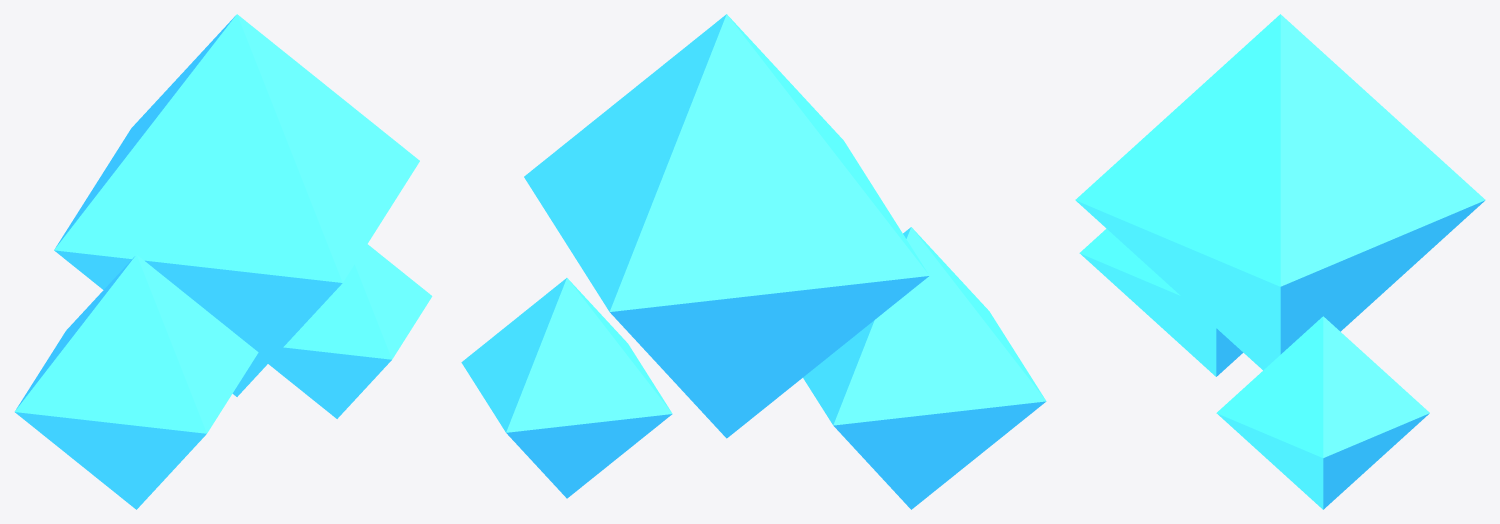
Rendered from ice_crystal_cluster.glb.
The picture shows the model from 3 angles, left to right: view 1: azimuth 30°, elevation 25°; view 2: azimuth 150°, elevation 25°; view 3: azimuth 270°, elevation 25°; orthographic projection. The views are drawn at different scales.
Size of the model in its own units: 1.24 by 1.13 by 0.96.
